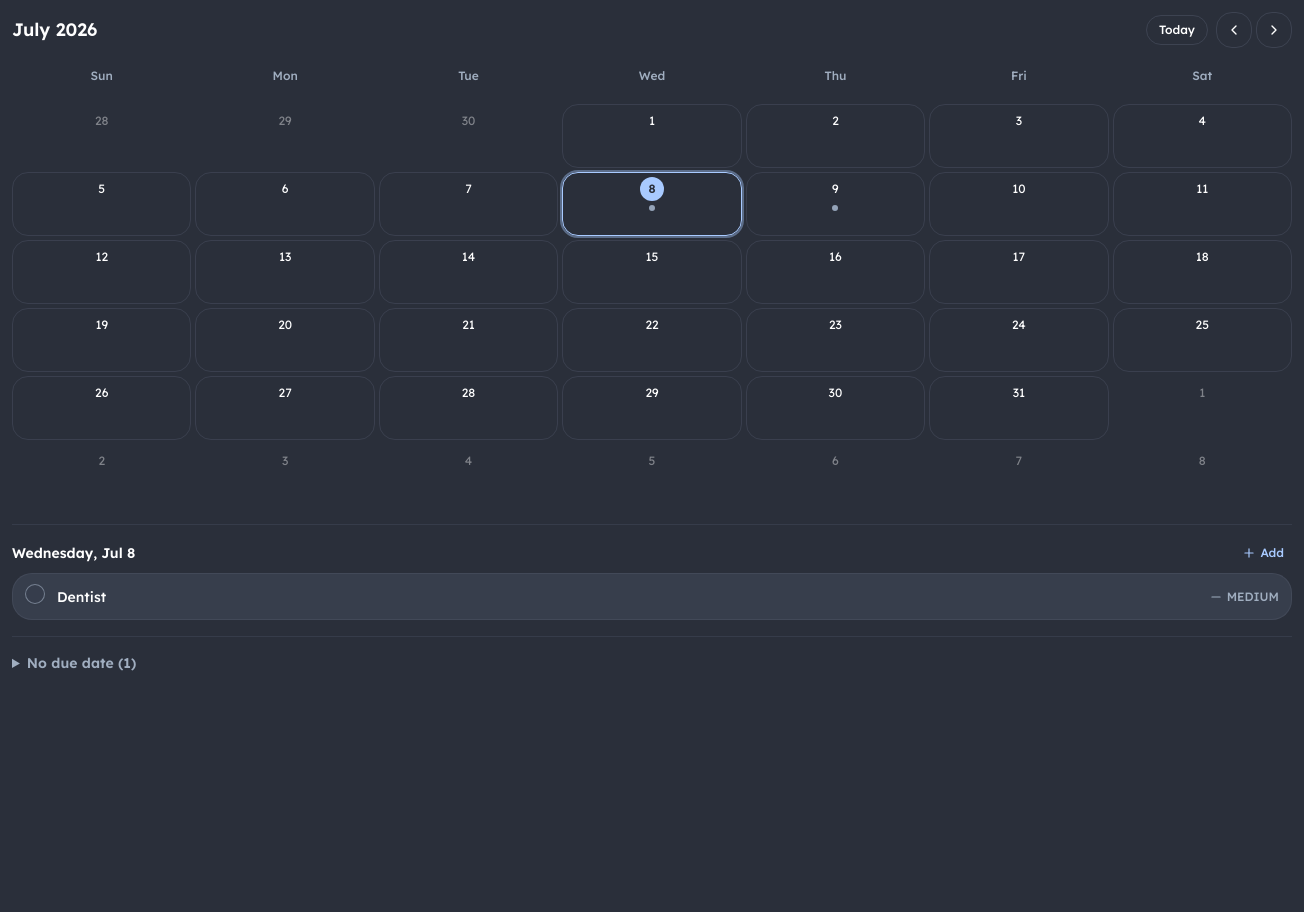
Test: TaskCalendarView › navigates to the next month and clears the agenda
The width and height of the screenshot is (1304, 912).
Click the button named "Next month" at (1274, 30), box [1256,12,1292,48]
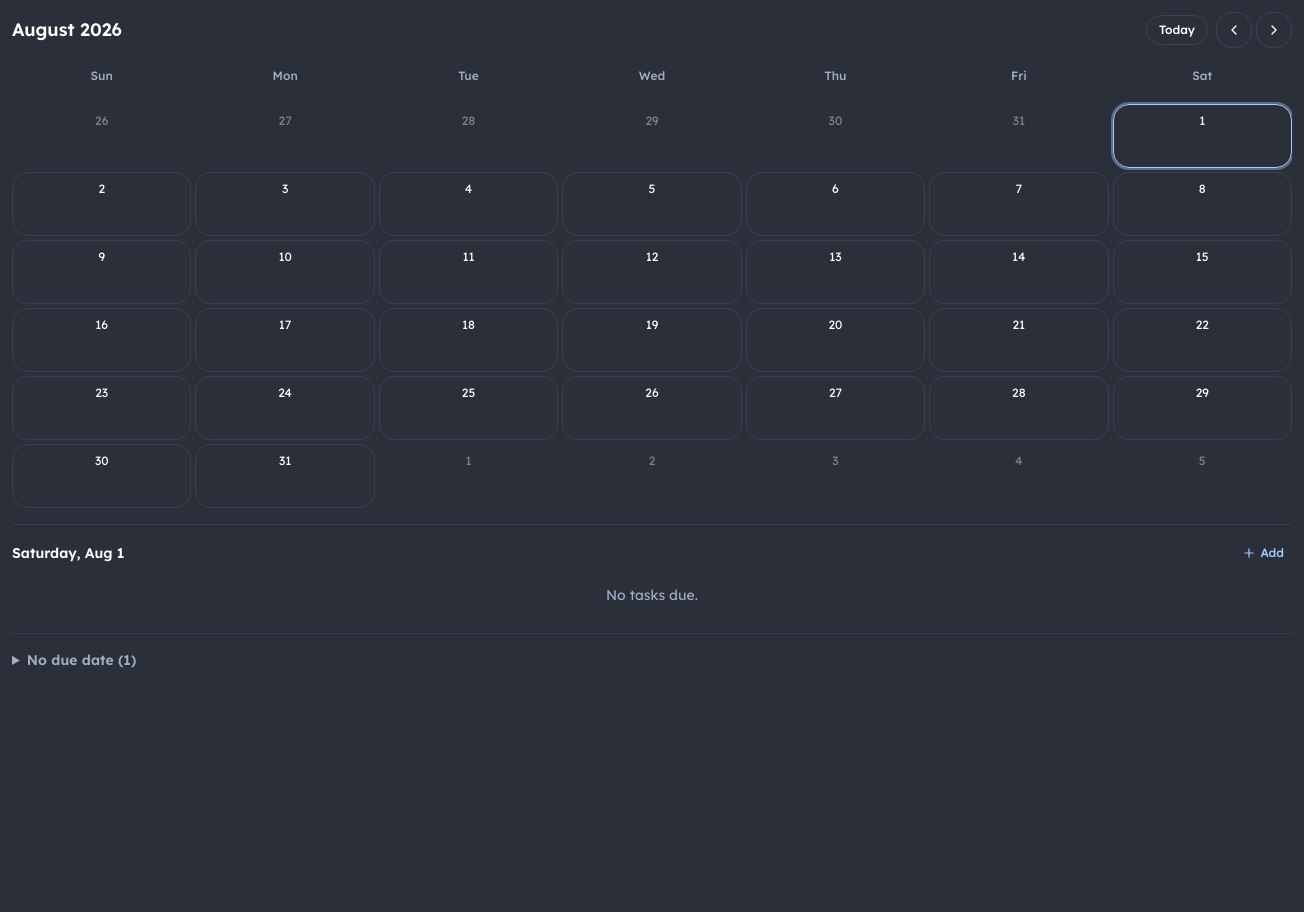
Check: the heading "August 2026" is shown, box [12,16,122,44]
Check: the text "No tasks due." is shown, box [606,586,698,604]
